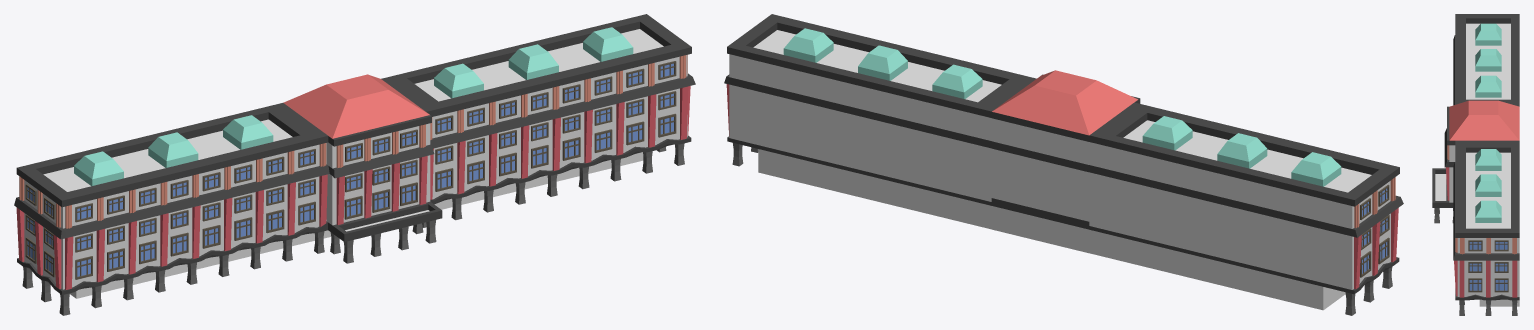
File: PalazzoStatutoC.fbx
3 views of the same model, side by side, from view 1: azimuth 30°, elevation 25°; view 2: azimuth 150°, elevation 25°; view 3: azimuth 270°, elevation 25° (orthographic). The views are drawn at different scales.
Visible parts, largest first — view 1: PalazzoStatutoC; view 2: PalazzoStatutoC; view 3: PalazzoStatutoC.
Boxes of the visible parts, x1,y1,x2,y2 form: PalazzoStatutoC: [14, 14, 695, 315]; PalazzoStatutoC: [724, 14, 1403, 315]; PalazzoStatutoC: [1432, 14, 1519, 315].
Bounding box in the file's own units: 8437 × 1783 × 1412.
